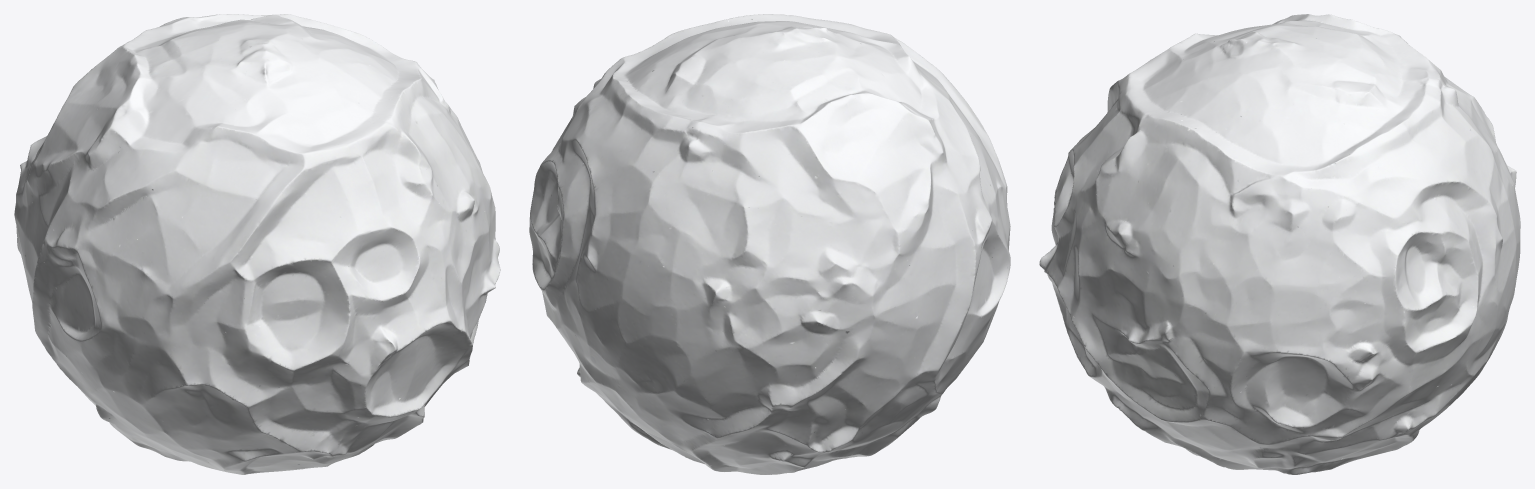
The model's file is Asteroide.glb.
The picture shows the model from 3 angles, left to right: view 1: azimuth 30°, elevation 25°; view 2: azimuth 150°, elevation 25°; view 3: azimuth 270°, elevation 25°; orthographic projection. The views are drawn at different scales.
Size of the model in its own units: 1.98 by 1.88 by 2.
Materials: 1 (1 with a texture image).
